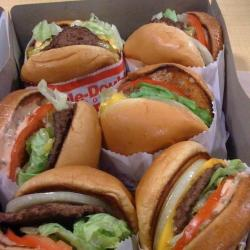burger: (129, 139, 249, 250), (101, 62, 228, 151), (2, 169, 140, 248), (1, 84, 105, 179), (16, 14, 125, 102), (128, 12, 227, 82)
